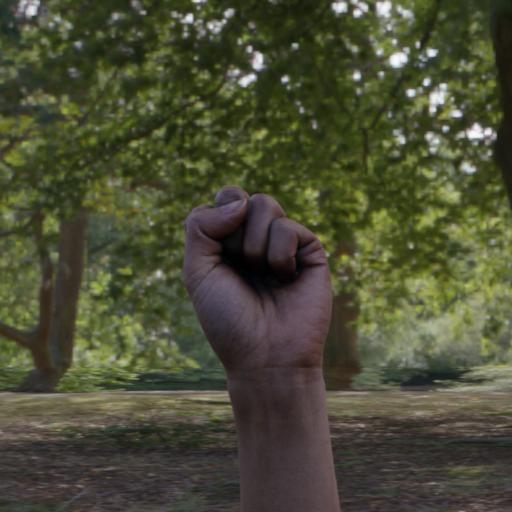S: (178, 183, 338, 369)
